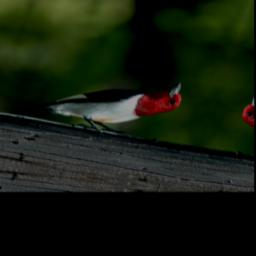Woodpecker: (0, 57, 189, 149)
